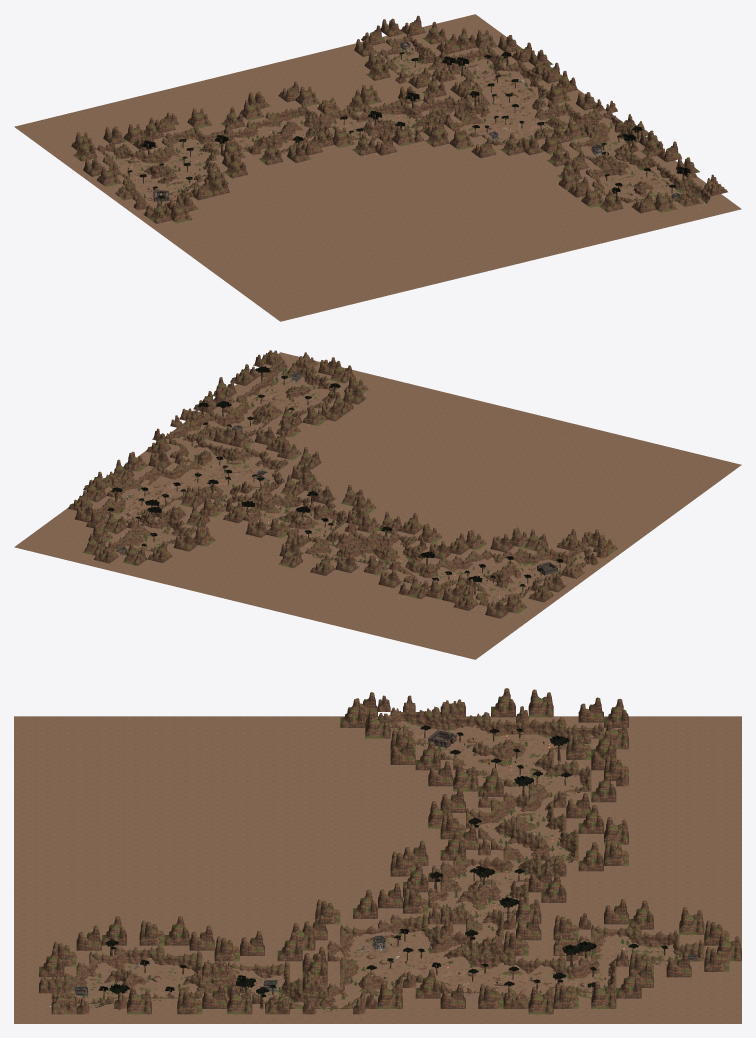
Rendered from map_F04_03.glb.
3 renders of one model, top to bottom at view 1: azimuth 30°, elevation 25°; view 2: azimuth 150°, elevation 25°; view 3: azimuth 270°, elevation 25°, orthographic. The views are drawn at different scales.
Visible parts, largest first — view 1: default_ground; view 2: default_ground; view 3: default_ground, FM_F04_cliff01_CBA (×9).
Boxes of the visible parts, x1=… form: default_ground: x1=14, y1=14, x2=741, y2=321; default_ground: x1=14, y1=352, x2=741, y2=659; default_ground: x1=14, y1=714, x2=741, y2=1023; FM_F04_cliff01_CBA (×9): x1=127, y1=689, x2=704, y2=1014.
Size of the model in its own units: 2088 by 106 by 2088.
280 materials, 280 textured.
